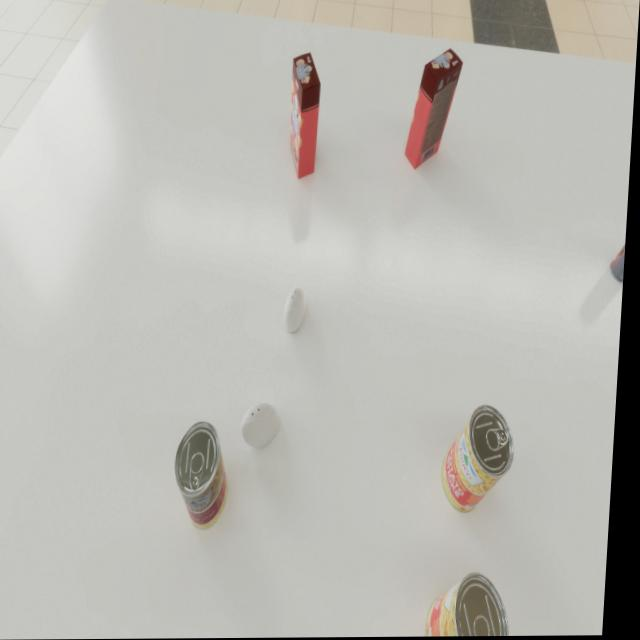HelloPanda: (406, 49, 465, 170), (288, 53, 323, 180)
Potato_sticks: (446, 405, 522, 514), (177, 421, 237, 530)
Salt: (246, 402, 286, 448), (287, 287, 311, 332)
